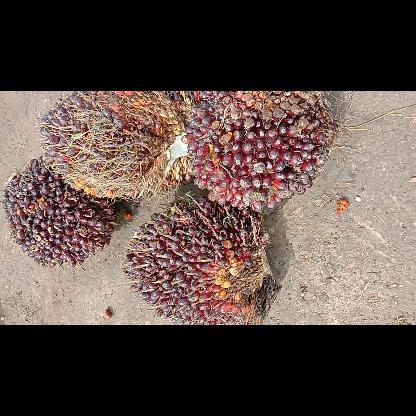Kurang masak: (122, 196, 280, 324), (180, 90, 336, 212), (36, 90, 192, 200), (0, 155, 116, 266)
